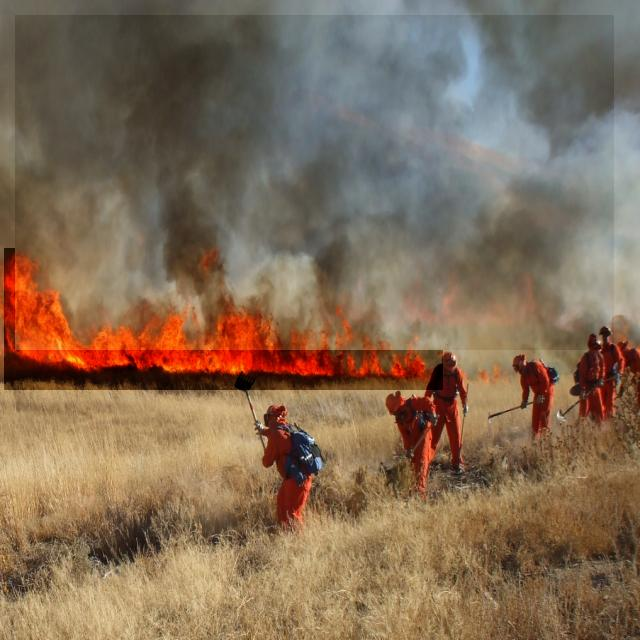Fire: (4, 248, 443, 390)
Smoke: (15, 15, 614, 350)
